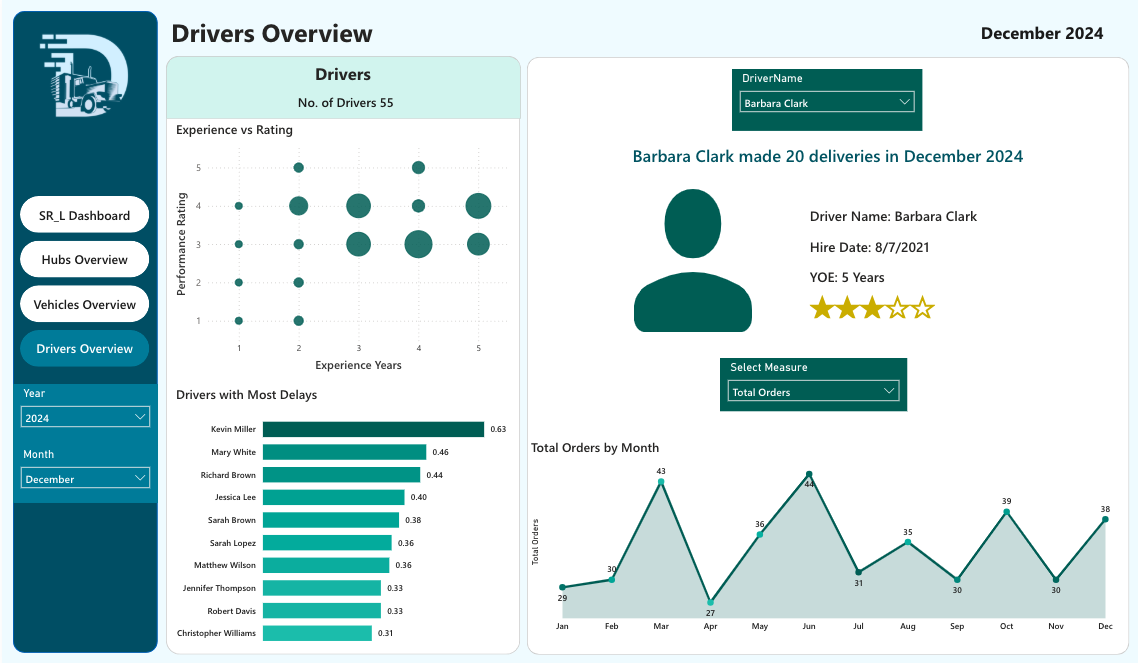

This screenshot's page, from the dashboard's own definition file:
{"tool":"powerbi","page":{"name":"Drivers Overview","canvas":[1450,850],"ordinal":3},"visuals":[{"type":"shape","box":[14.1,15.4,184.6,819.2],"z":0,"group":"g1"},{"type":"textbox","box":[210.3,15.4,503.8,57.7],"z":0},{"type":"shape","box":[209.9,72.3,452,764],"z":1000},{"type":"shape","box":[208.8,72.3,453.1,80.3],"z":2000},{"type":"cardVisual","title":"No of Hubs","fields":{"Data":["Orders.Year Month Title"]},"box":[1225.7,15.3,206.8,52.5],"z":3000},{"type":"slicer","fields":{"Values":["Date Table.Year"]},"box":[13.7,491.1,185,78.8],"z":3000,"group":"g1"},{"type":"textbox","box":[387.9,75.2,94.3,44.2],"z":4000},{"type":"slicer","fields":{"Values":["Date Table.Month"]},"box":[13.7,569.9,185,74.2],"z":4000,"group":"g1"},{"type":"cardVisual","title":"No of Hubs","fields":{"Data":["Drivers.No. of Drivers"]},"box":[354,107.3,187.2,44.5],"z":5000},{"type":"scatterChart","title":"Experience vs Rating","fields":{"Size":["Sum(Drivers.Experience Years)1"],"X":["Drivers.Experience Years"],"Y":["Drivers.Performance Rating"]},"box":[217,156,437.3,325.4],"z":6000},{"type":"barChart","title":"Drivers with Most Delays","fields":{"Category":["Drivers.DriverName"],"Y":["Orders.Delayed Delivery Rate"]},"box":[217,494,437.3,342.5],"z":7000},{"type":"shape","box":[669.9,73.4,768.6,762.9],"z":8000},{"type":"slicer","fields":{"Values":["Drivers.DriverName"]},"box":[931.7,89.1,243.2,78.8],"z":9000},{"type":"cardVisual","title":"No of Hubs","fields":{"Data":["Drivers.Drivers Title"]},"box":[670.2,167.8,768.4,59.4],"z":10000},{"type":"cardVisual","fields":{"Data":["Drivers.Driver Name Title","Drivers.Hire Date Title","Drivers.YOE Title","Drivers.Star Rating"]},"box":[1001.3,242,368.8,182.7],"z":11000},{"type":"areaChart","title":"Total Orders by Month","fields":{"Category":["Date Table.Month abr"],"Y":["Orders.Total Orders"]},"box":[670.2,561.7,768.4,256.9],"z":12000},{"type":"slicer","fields":{"Values":["Select Measure.Select Measure"]},"box":[916.8,457.8,238.6,68],"z":13000},{"type":"image","box":[804.9,242,153,182.7],"z":14000},{"type":"group","id":"g1","title":"Group 1","box":[13.7,15.4,185,819.2],"z":15000},{"type":"image","box":[32,33.1,148.4,138.1],"z":23000,"group":"g1"},{"type":"pageNavigator","box":[22.8,251.2,165.6,220.4],"z":25000,"group":"g1"}]}

Visuals, with their boxes in screenshot pixels (x1, y1, x2, y2), scaled from the page's 1450x850 canvas onto the 1138x663 screenshot:
shape: crop(11, 12, 156, 651)
textbox: crop(165, 12, 560, 57)
shape: crop(165, 56, 519, 652)
shape: crop(164, 56, 519, 119)
"No of Hubs" cardVisual: crop(962, 12, 1124, 53)
slicer - Date Table.Year: crop(11, 383, 156, 445)
textbox: crop(304, 59, 378, 93)
slicer - Date Table.Month: crop(11, 445, 156, 502)
"No of Hubs" cardVisual: crop(278, 84, 425, 118)
"Experience vs Rating" scatterChart: crop(170, 122, 514, 375)
"Drivers with Most Delays" barChart: crop(170, 385, 514, 652)
shape: crop(526, 57, 1129, 652)
slicer - Drivers.DriverName: crop(731, 69, 922, 131)
"No of Hubs" cardVisual: crop(526, 131, 1129, 177)
cardVisual - Drivers.Driver Name Title x Drivers.Hire Date Title: crop(786, 189, 1075, 331)
"Total Orders by Month" areaChart: crop(526, 438, 1129, 639)
slicer - Select Measure.Select Measure: crop(720, 357, 907, 410)
image: crop(632, 189, 752, 331)
"Group 1" group: crop(11, 12, 156, 651)
image: crop(25, 26, 142, 134)
pageNavigator: crop(18, 196, 148, 368)
